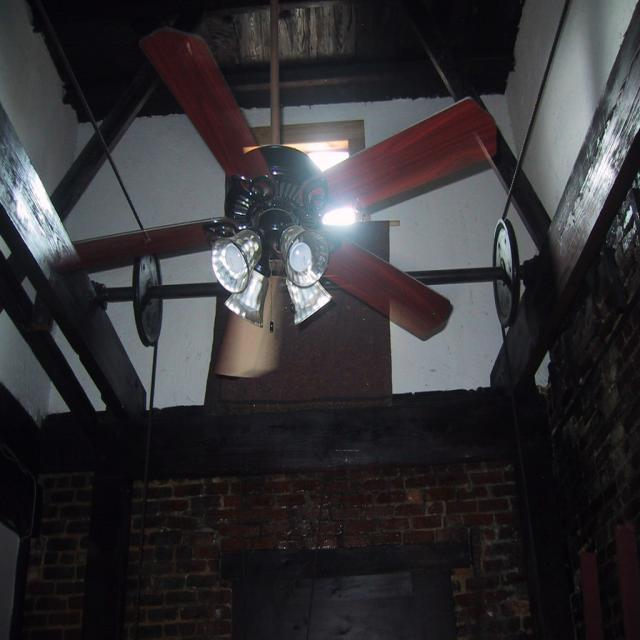bulb_off: (287, 240, 313, 275), (225, 246, 250, 279), (291, 284, 317, 312)
fan_off: (71, 27, 495, 366)
